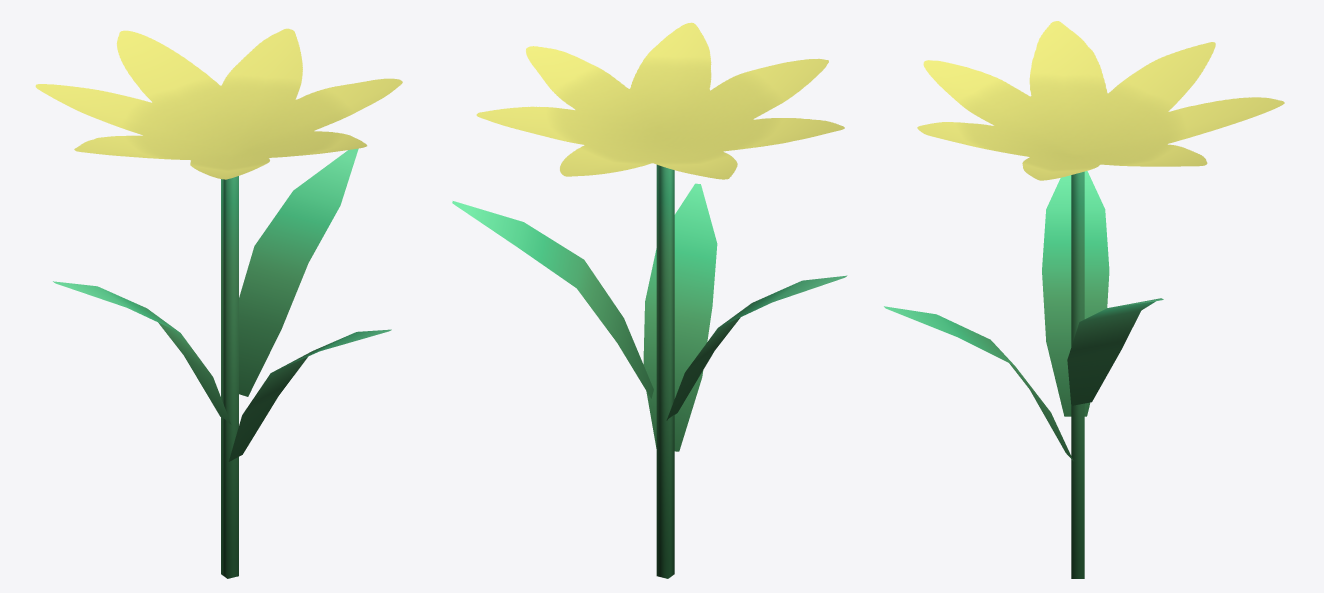
File: SM_Sw_Flower_03.fbx
3 views of the same model, side by side, from view 1: azimuth 30°, elevation 25°; view 2: azimuth 150°, elevation 25°; view 3: azimuth 270°, elevation 25° (orthographic).
Visible parts, largest first — view 1: SM_Sw_Flower_03; view 2: SM_Sw_Flower_03; view 3: SM_Sw_Flower_03.
Boxes of the visible parts, left/top/right/bottom form: SM_Sw_Flower_03: left=35, top=28, right=402, bottom=578; SM_Sw_Flower_03: left=452, top=22, right=847, bottom=578; SM_Sw_Flower_03: left=884, top=21, right=1284, bottom=578.
Size of the model in its own units: 21.8 by 28.28 by 22.91.
